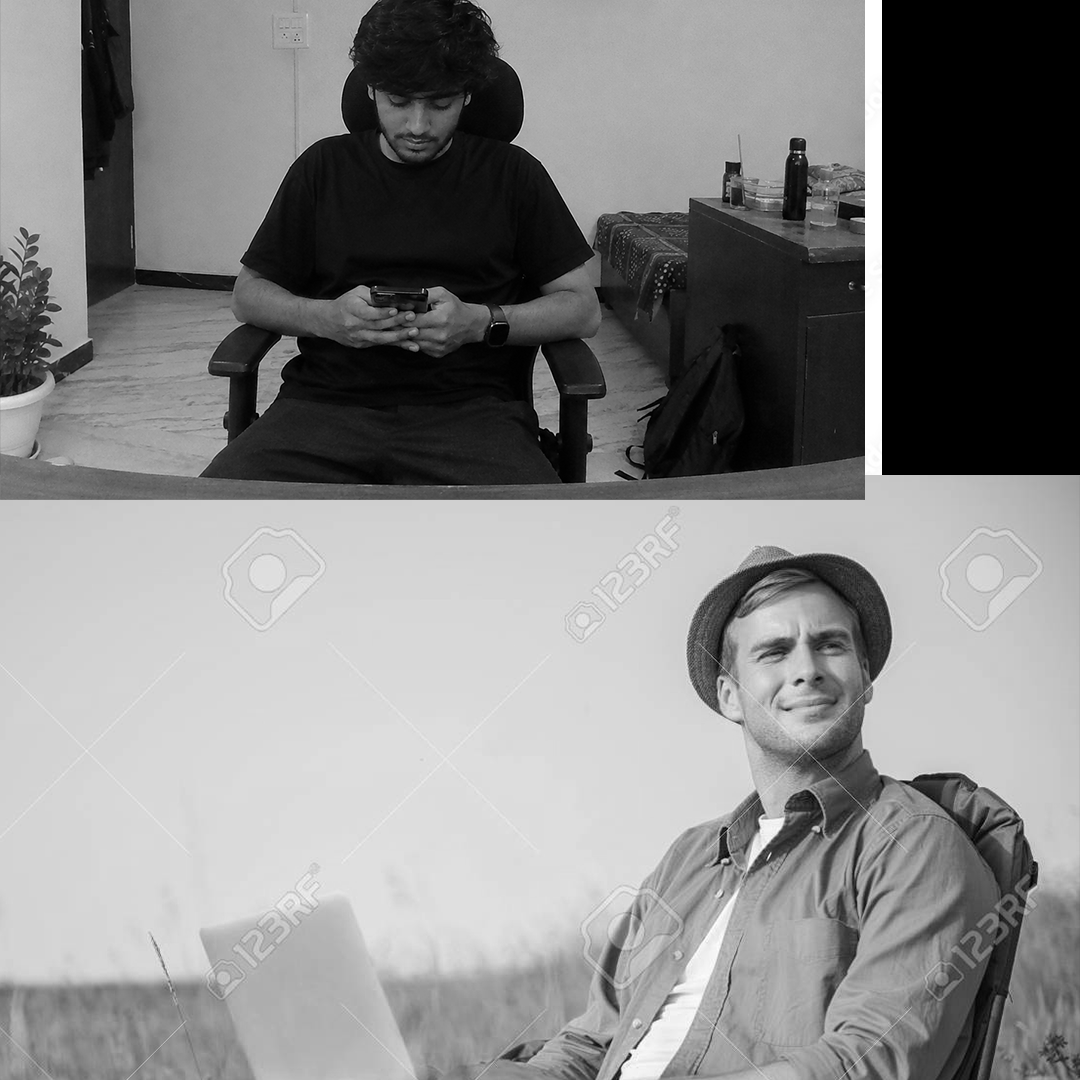distracted: (647, 569, 966, 947), (285, 1, 615, 351)
